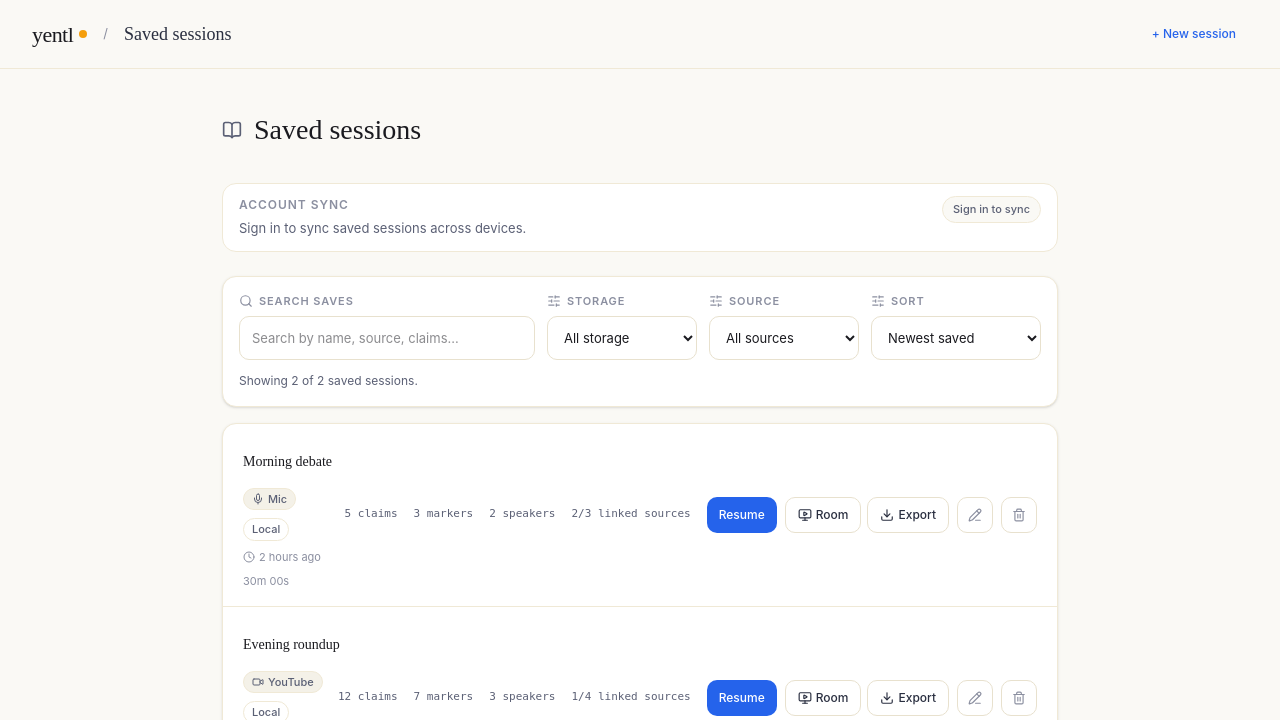
Test: SessionsLibraryPage — with sessions › searches saved sessions by name
Expected: the text "Morning debate" is shown, [243,451,332,472]
Type "evening" into the field labelled "Search saves".
click(387, 338); type("evening")  # box [239,316,535,360]
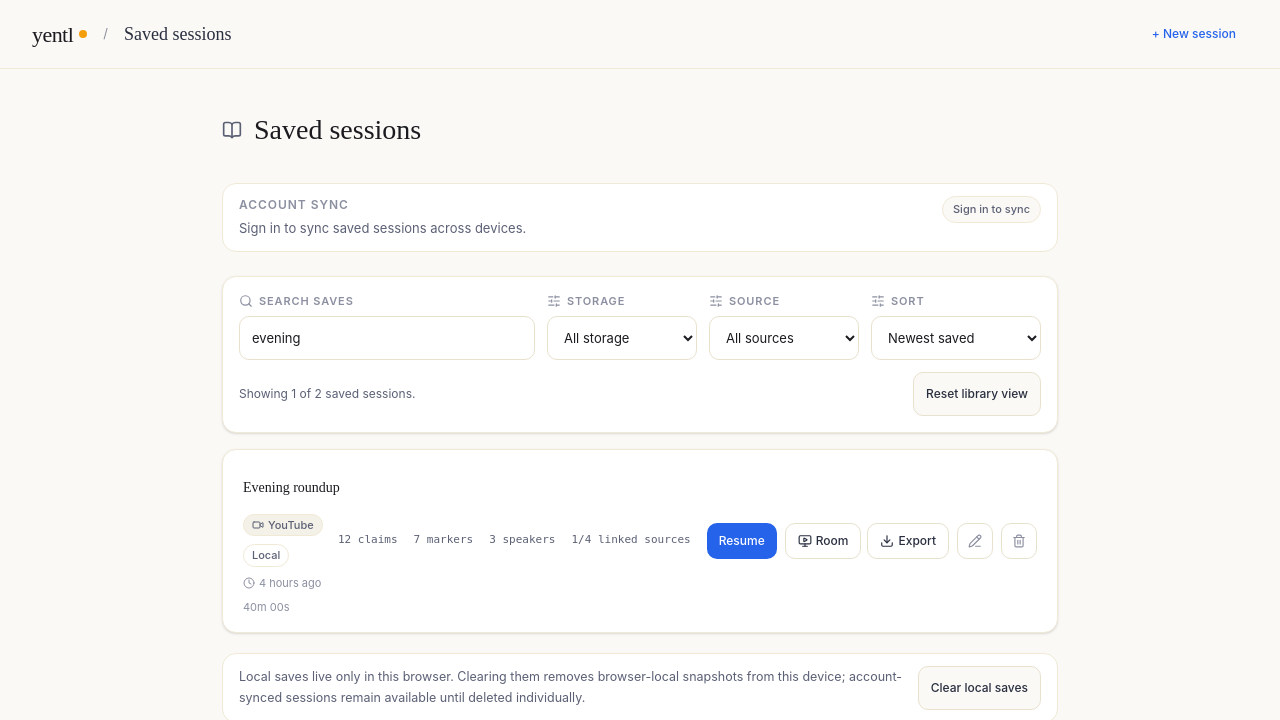
Expected: the text "Evening roundup" is shown, [243,477,340,498]
Expected: the button "Morning debate" is gone
Expected: the text "Showing 1 of 2 saved sessions." is shown, [239,385,415,403]
